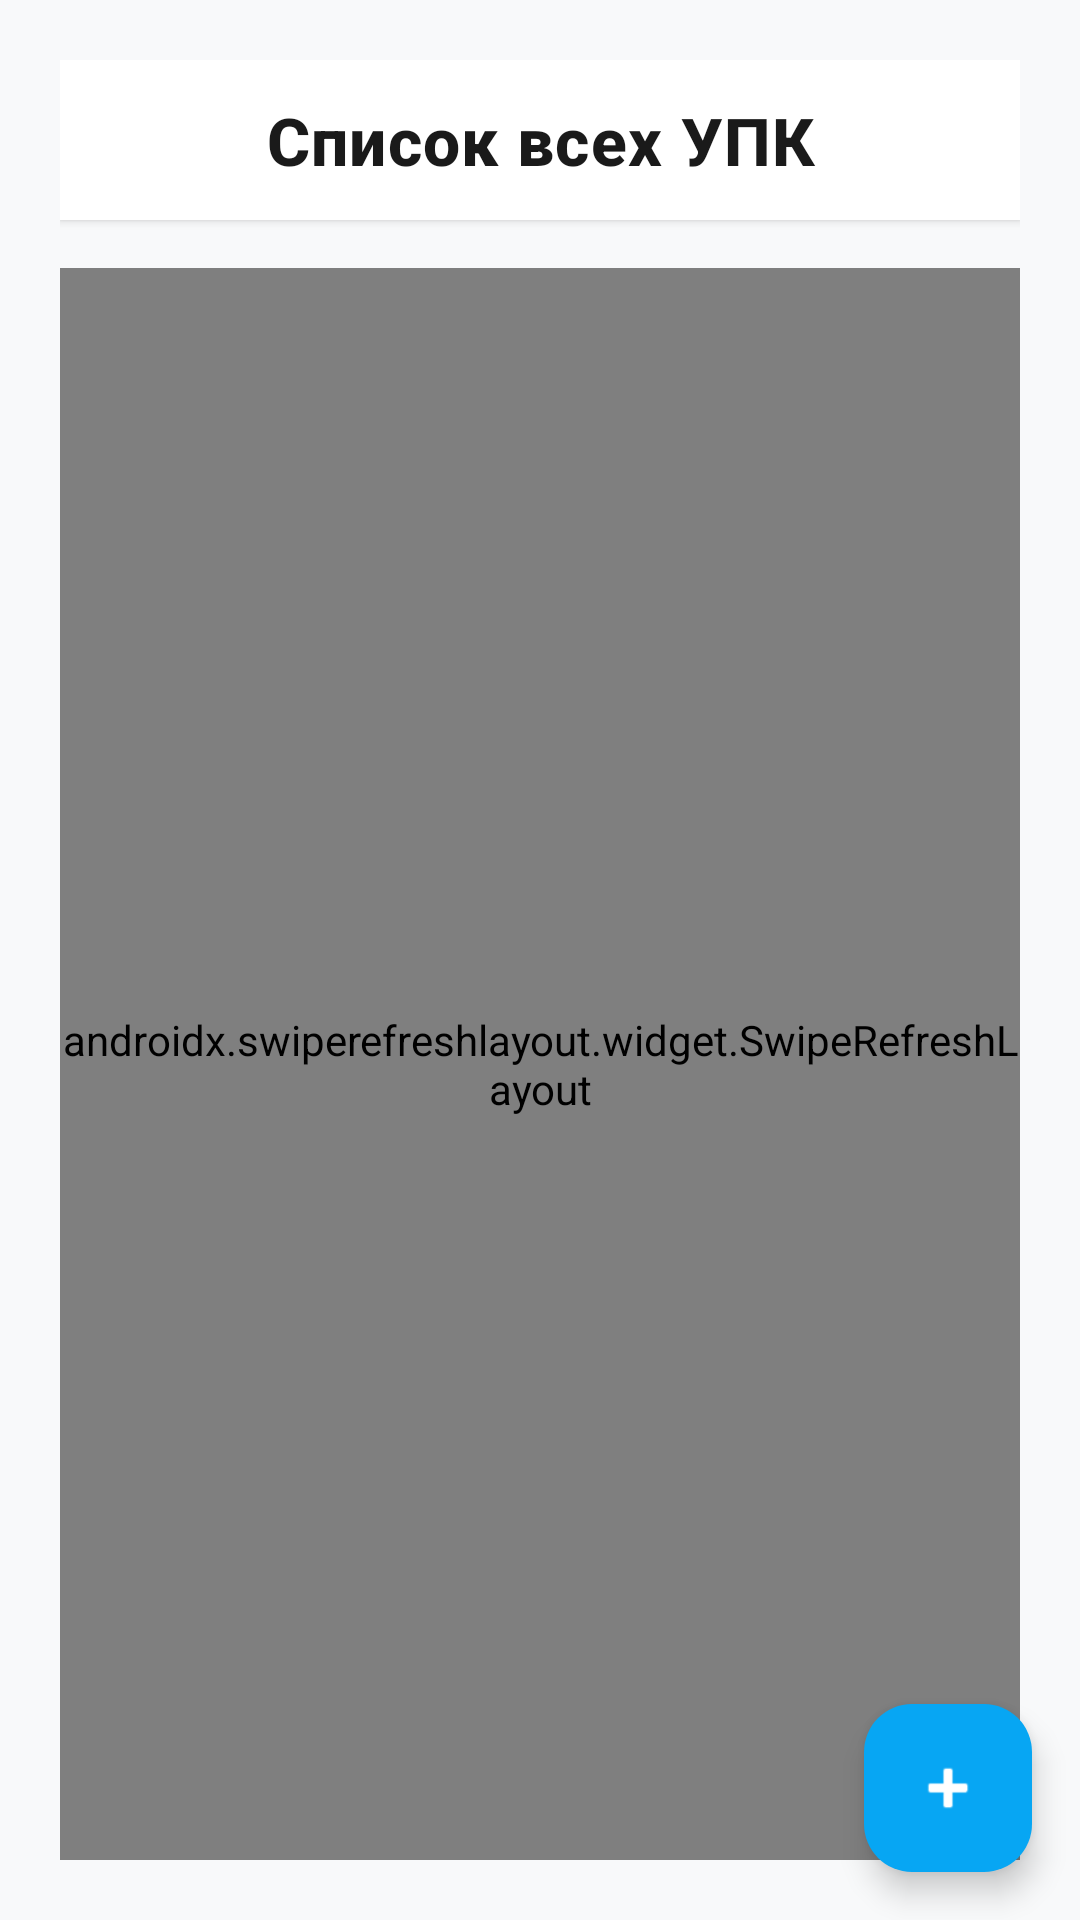

Named icons in this screenshot (1080 × 1920) and their centers, [x,y]:
Add New UPK: [948,1788]
